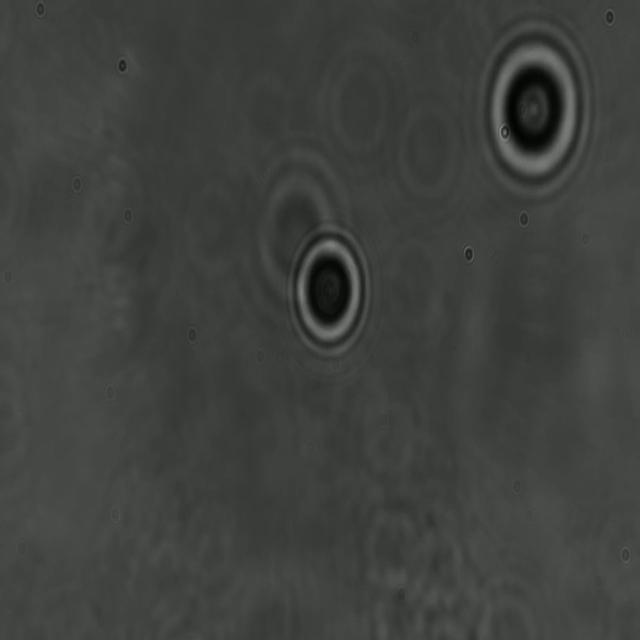DCELL: (277, 214, 383, 367)
LCELL: (470, 22, 596, 201)
